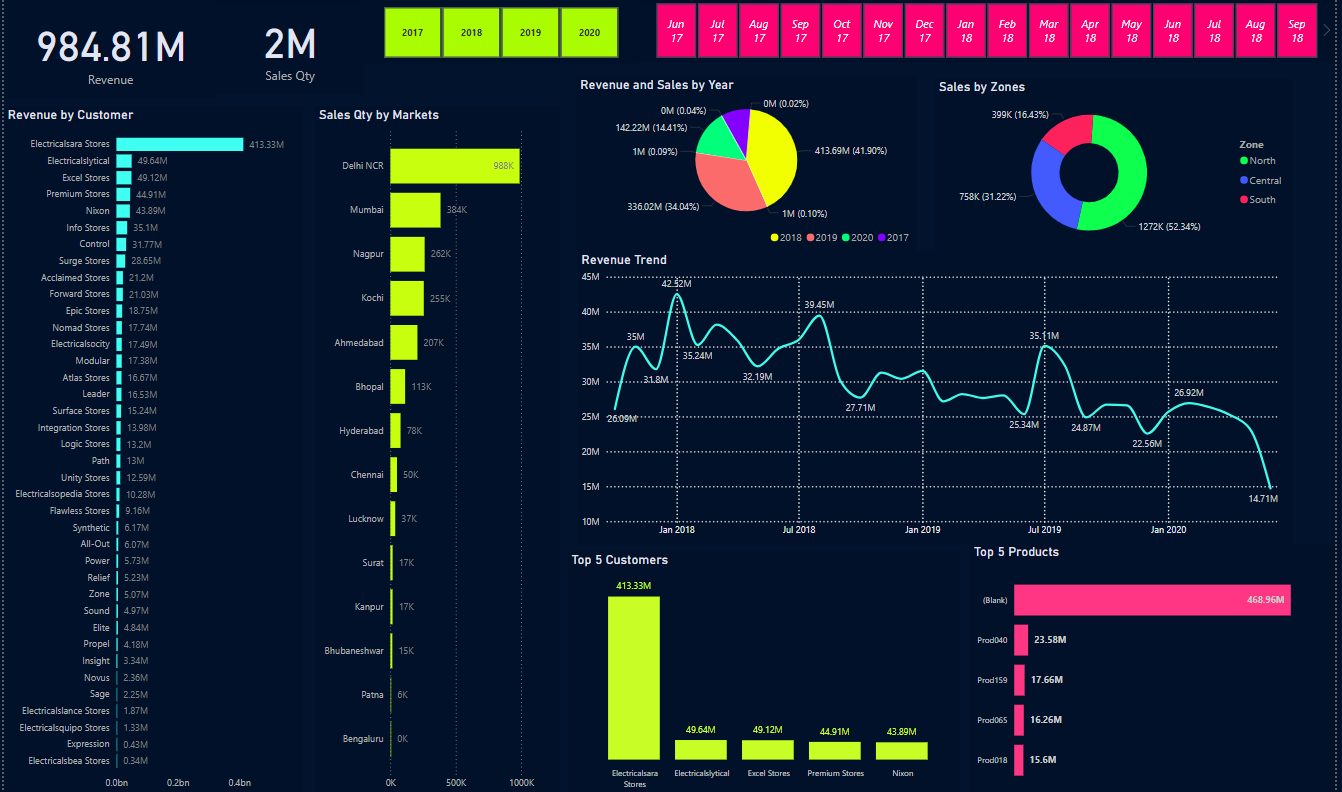

This screenshot's page, from the dashboard's own definition file:
{"tool":"powerbi","page":{"name":"Dashboard","canvas":[1750,1050],"ordinal":0},"visuals":[{"type":"card","fields":{"Values":["BaseMeasures.Revenue"]},"box":[1.6,4.8,277.5,125.8],"z":0},{"type":"card","fields":{"Values":["BaseMeasures.Sales Qty"]},"box":[279.1,0,193.6,127.5],"z":1000},{"type":"barChart","title":"Revenue by Customer","fields":{"Category":["sales customers.custmer_name"],"Y":["BaseMeasures.Revenue"]},"box":[0,143,392.8,907.3],"z":2000},{"type":"barChart","title":"Sales Qty by Markets","fields":{"Category":["sales markets.markets_name"],"Y":["BaseMeasures.Sales Qty"]},"box":[409.3,143,320.5,907.3],"z":3000},{"type":"donutChart","title":"Sales by Zones","fields":{"Y":["BaseMeasures.Sales Qty"],"Category":["sales markets.zone"]},"box":[1224.6,106.8,470.1,226.8],"z":4000},{"type":"slicer","fields":{"Values":["sales date.year"]},"box":[473.4,4.9,358.3,80.5],"z":5000},{"type":"slicer","title":"Months","fields":{"Values":["sales date.cy_date"]},"box":[831.7,0,918.8,85.5],"z":6000},{"type":"columnChart","title":"Top 5 Customers","fields":{"Category":["sales customers.custmer_name"],"Y":["BaseMeasures.Revenue"]},"box":[741.3,728.2,516.1,320.5],"z":7000},{"type":"pieChart","title":"Revenue and Sales by Year","fields":{"Category":["sales date.year"],"Y":["BaseMeasures.Revenue","BaseMeasures.Sales Qty"]},"box":[752.8,103.6,447.1,230.1],"z":8000},{"type":"barChart","title":"Top 5 Products","fields":{"Y":["BaseMeasures.Revenue"],"Category":["sales products.product_code"]},"box":[1270.6,718.3,480,332],"z":9000},{"type":"lineChart","title":"Revenue Trend","fields":{"Category":["sales date.cy_date"],"Y":["BaseMeasures.Revenue"]},"box":[754.5,333.7,940.2,384.6],"z":10000}]}

Visuals, with their boxes in screenshot pixels (x1, y1, x2, y2), scaled from the page's 1750x1050 canvas onto the 1342x792 screenshot:
card - BaseMeasures.Revenue: <bbox>1, 4, 214, 99</bbox>
card - BaseMeasures.Sales Qty: <bbox>214, 0, 362, 96</bbox>
"Revenue by Customer" barChart: <bbox>0, 108, 301, 791</bbox>
"Sales Qty by Markets" barChart: <bbox>314, 108, 560, 791</bbox>
"Sales by Zones" donutChart: <bbox>939, 81, 1300, 252</bbox>
slicer - sales date.year: <bbox>363, 4, 638, 64</bbox>
"Months" slicer: <bbox>638, 0, 1341, 64</bbox>
"Top 5 Customers" columnChart: <bbox>568, 549, 964, 791</bbox>
"Revenue and Sales by Year" pieChart: <bbox>577, 78, 920, 252</bbox>
"Top 5 Products" barChart: <bbox>974, 542, 1341, 791</bbox>
"Revenue Trend" lineChart: <bbox>579, 252, 1300, 542</bbox>
